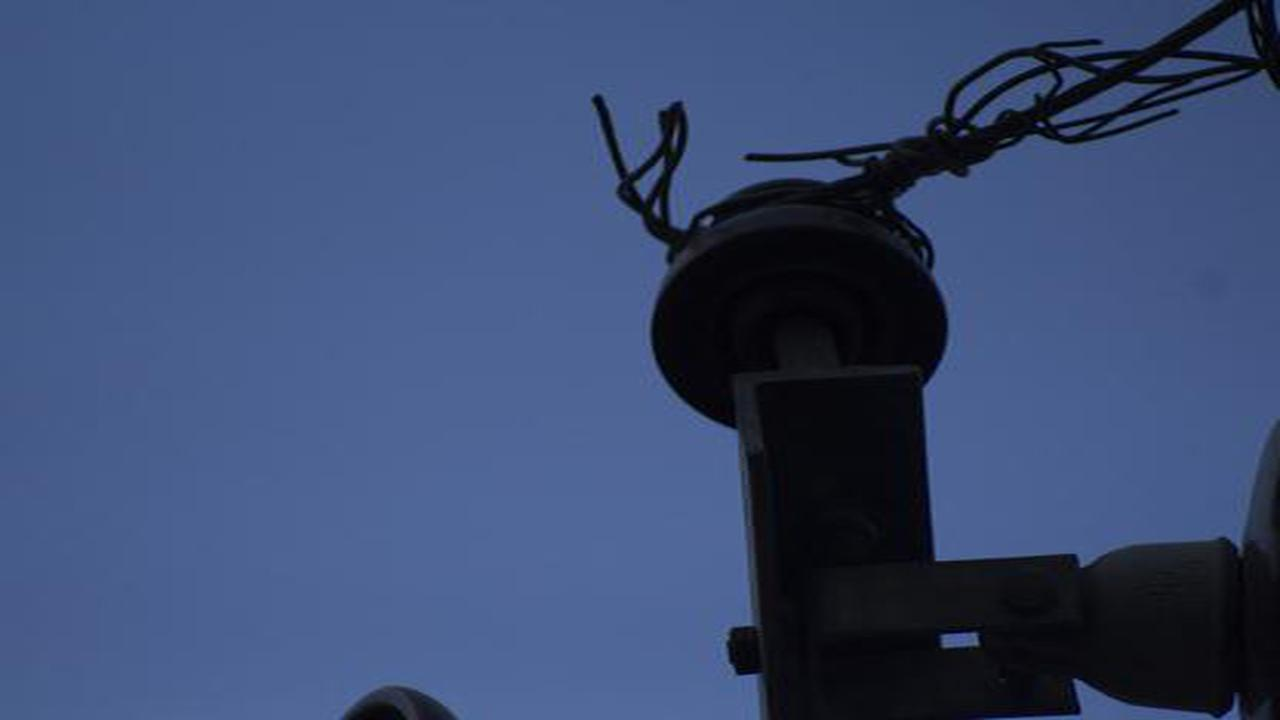insulator_pin: (643, 162, 987, 436)
